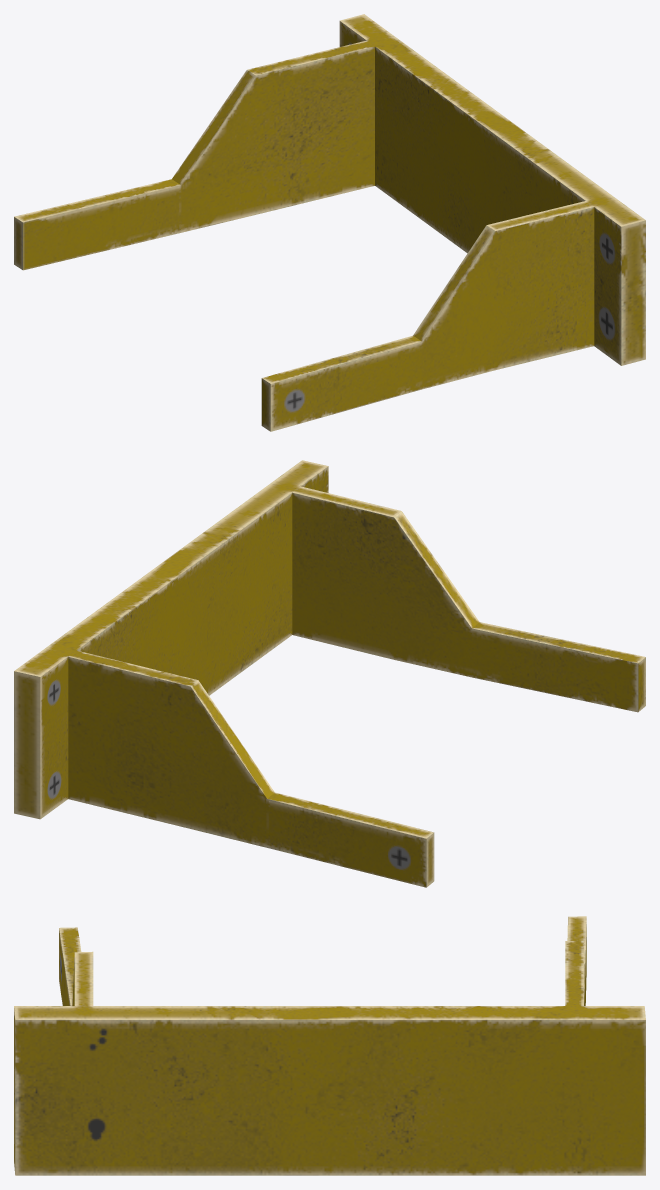
3 views of the same model, one above another, from view 1: azimuth 30°, elevation 25°; view 2: azimuth 150°, elevation 25°; view 3: azimuth 270°, elevation 25° (orthographic). The views are drawn at different scales.
Parts seen in each view (by area): view 1: SM_Bin; view 2: SM_Bin; view 3: SM_Bin.
Part boxes in pixels (bbox=[...]): SM_Bin: bbox=[14, 14, 645, 431]; SM_Bin: bbox=[14, 460, 645, 887]; SM_Bin: bbox=[14, 916, 645, 1175].
Size of the model in its own units: 0.2391 by 0.0844 by 0.3102.
1 material, 1 textured.
